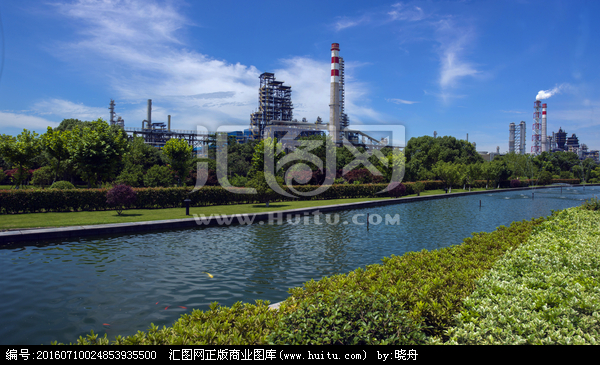dust: (526, 81, 564, 106)
